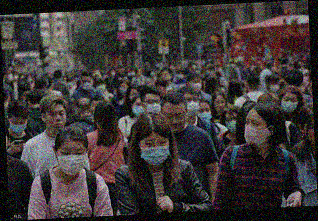with_mask: (55, 145, 87, 178), (137, 136, 170, 167), (243, 116, 269, 149), (182, 95, 201, 119), (8, 118, 28, 137), (143, 98, 162, 118), (280, 96, 298, 116), (224, 114, 239, 135), (196, 106, 213, 124), (189, 78, 204, 93), (131, 101, 144, 117), (80, 79, 94, 91), (117, 84, 128, 97), (269, 81, 280, 93), (94, 81, 106, 92), (129, 91, 139, 103), (11, 72, 19, 83), (176, 71, 184, 80), (25, 74, 33, 83), (18, 72, 25, 81), (149, 69, 155, 78), (229, 62, 236, 69), (110, 70, 116, 78), (67, 80, 73, 88)
without_mask: (43, 108, 68, 133), (163, 109, 188, 134), (214, 98, 227, 114), (160, 71, 171, 83)
